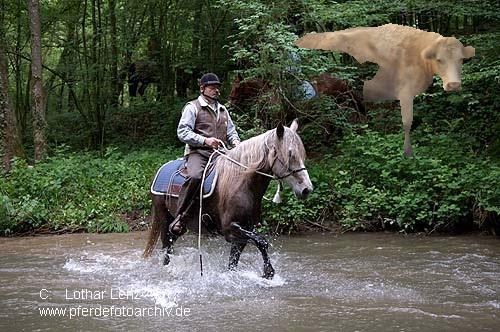tampered: (293, 24, 475, 157)
